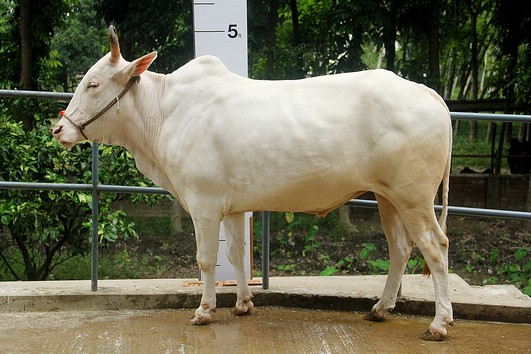cow: (55, 39, 465, 338)
